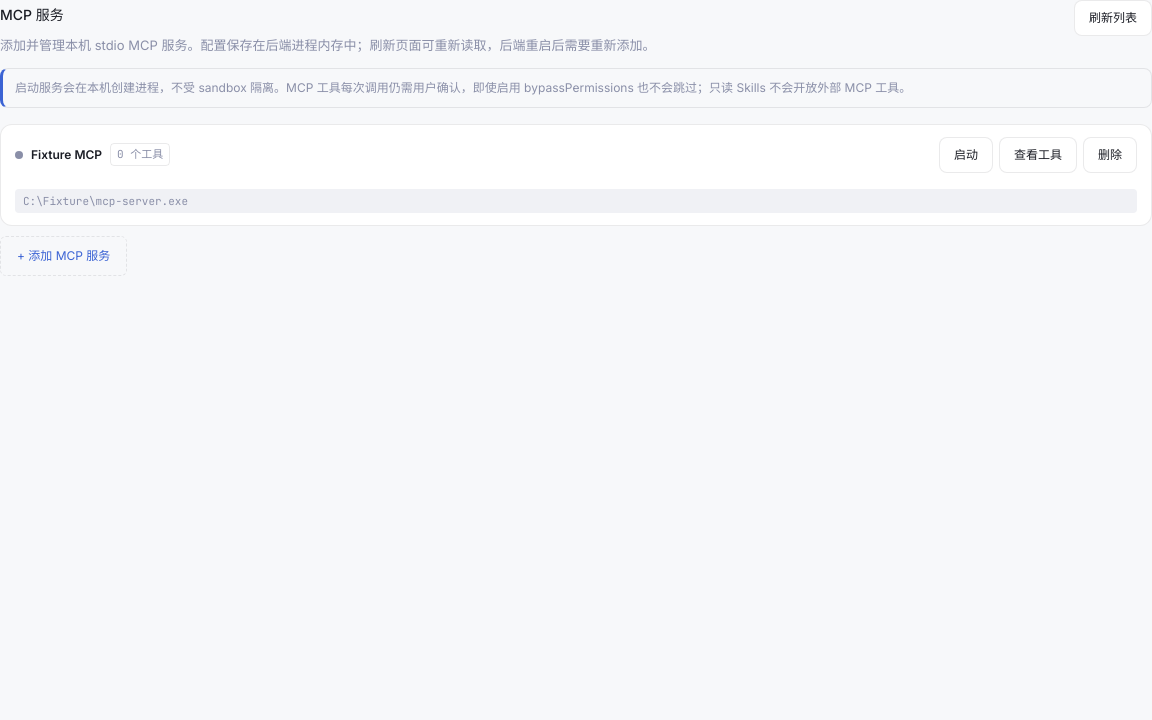
Test: MCPManager › keeps the target and its error visible when DELETE fails
Click the button with aria-label "删除 MCP 服务：Fixture MCP".
click(1110, 154)  # box [1083,136,1137,172]
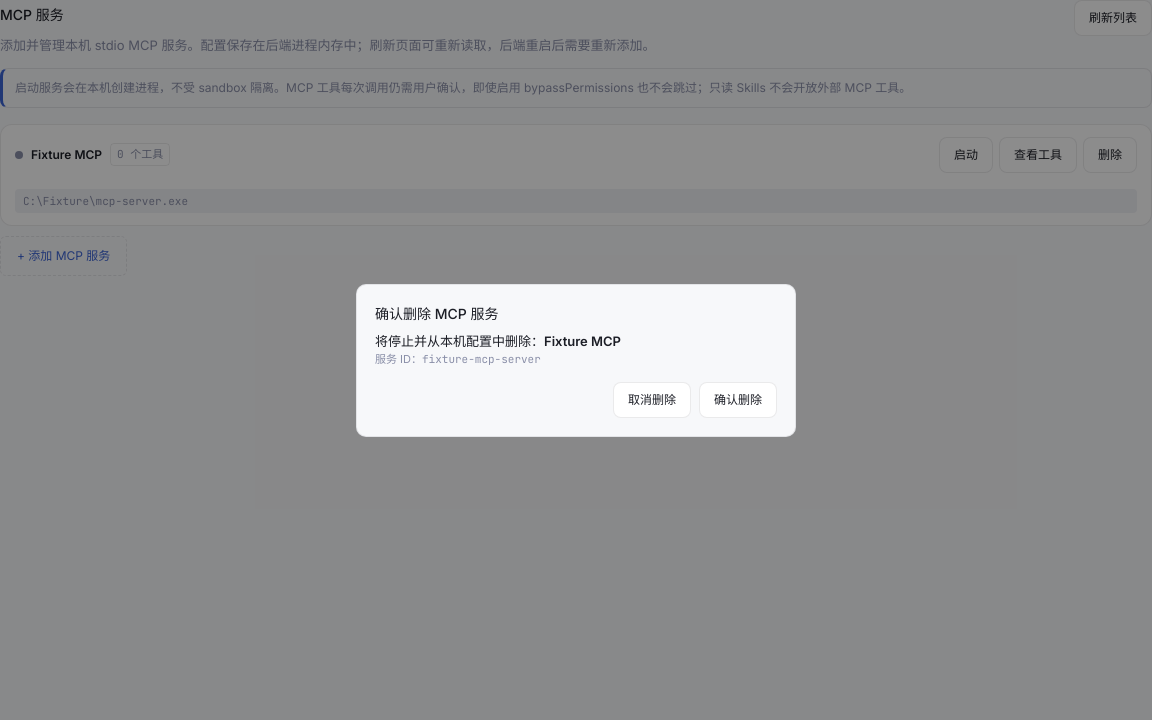
Click the button "确认删除".
click(738, 400)  # box [699,382,777,418]
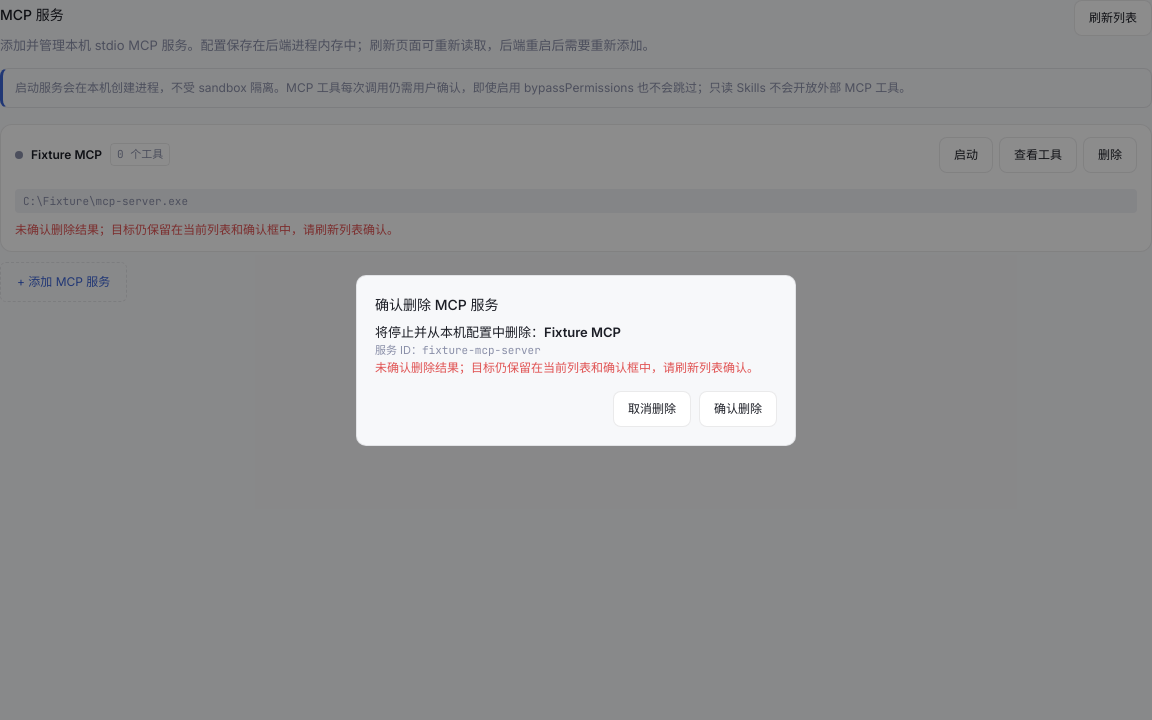
Now the dialog shows "fixture-mcp-server", box [422,343,541,357]
Now the dialog shows "未确认删除结果；目标仍保留在当前列表和确认框中，请刷新列表确认。", box [375,360,759,374]
